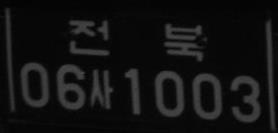0: (154, 69, 185, 118), (191, 72, 222, 120), (20, 61, 49, 108)
1: (120, 67, 146, 115)
3: (230, 74, 261, 123)
6: (55, 63, 85, 111)
사: (89, 69, 113, 110)
전북_D: (68, 18, 206, 61)
